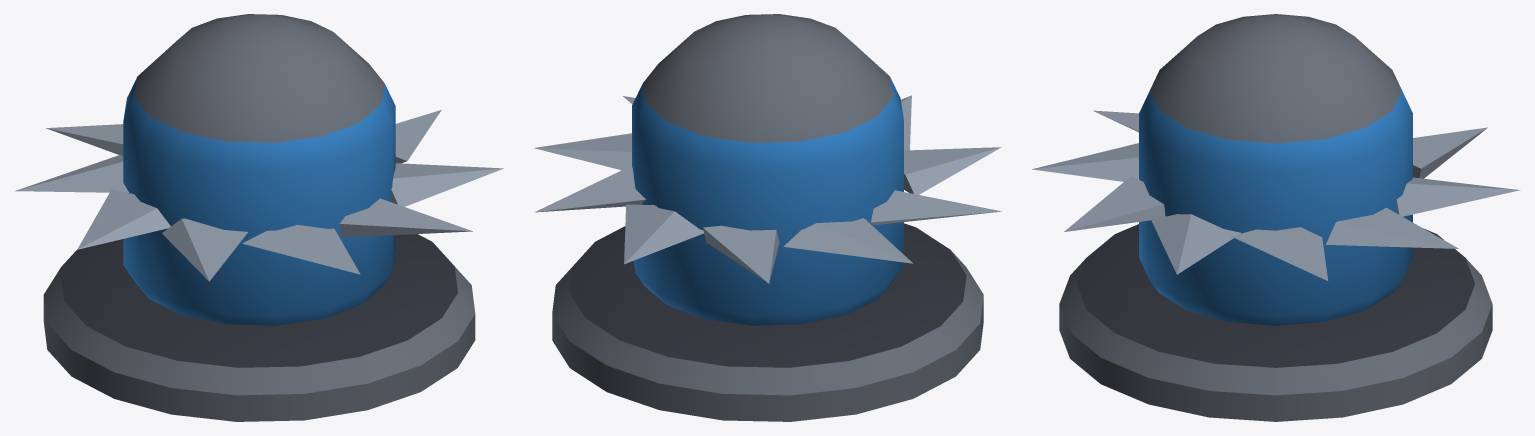
3 renders of one model, left to right at view 1: azimuth 30°, elevation 25°; view 2: azimuth 150°, elevation 25°; view 3: azimuth 270°, elevation 25°, orthographic.
Parts seen in each view (by area): view 1: tachinha_1_torreta, tachinha_0_base; view 2: tachinha_1_torreta, tachinha_0_base; view 3: tachinha_1_torreta, tachinha_0_base.
Part boxes in pixels (x1,y1,x2,y2): tachinha_1_torreta: [15, 14, 503, 325]; tachinha_0_base: [43, 234, 475, 421]; tachinha_1_torreta: [534, 14, 1002, 325]; tachinha_0_base: [552, 223, 983, 421]; tachinha_1_torreta: [1032, 14, 1520, 325]; tachinha_0_base: [1059, 224, 1492, 421].
Size of the model in its own units: 0.7548 by 0.53 by 0.7686.
